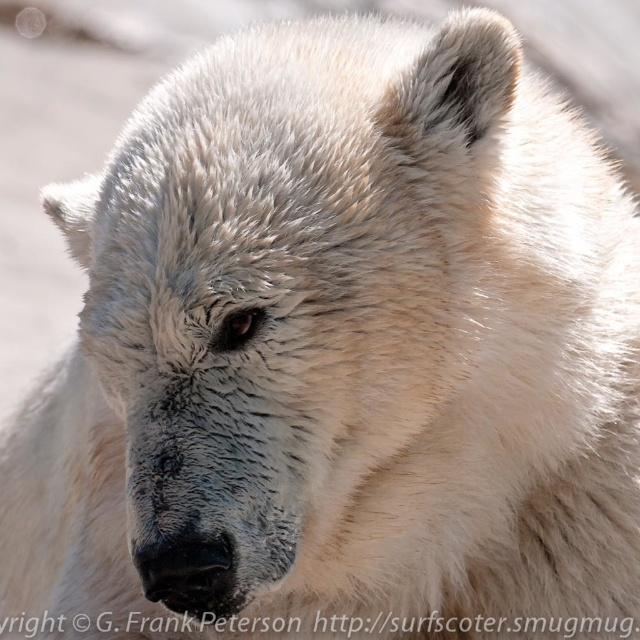Polar bear: (0, 5, 640, 640)
